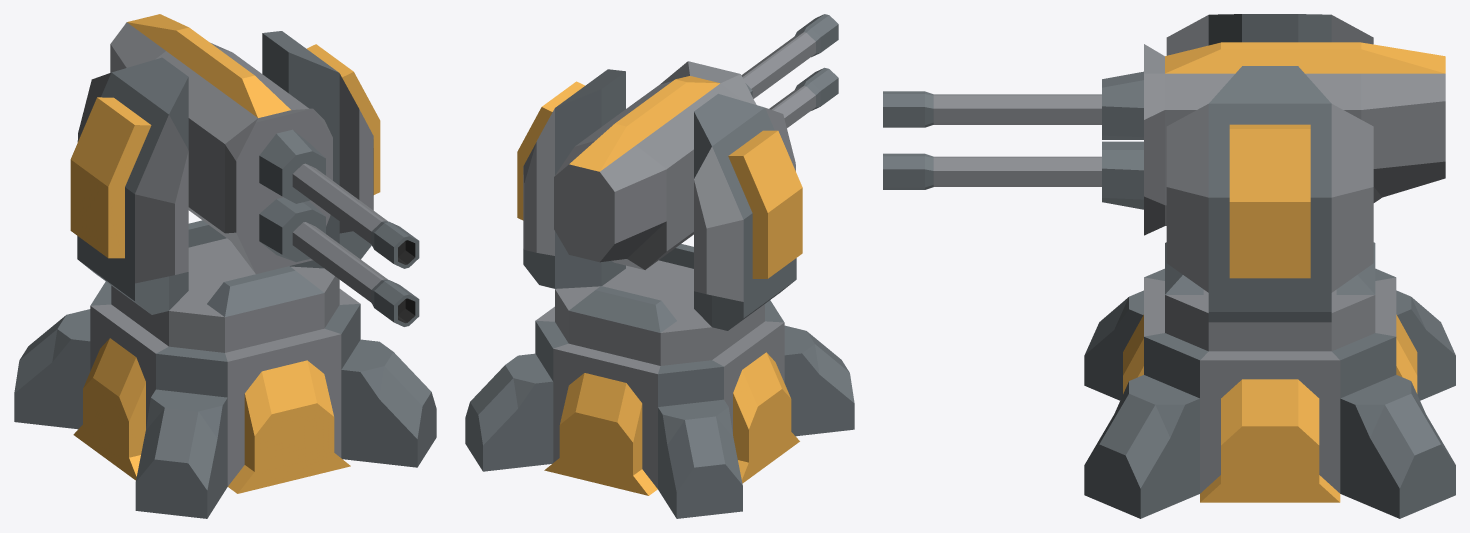
File: Medium Dual Cannon Turret.fbx
The picture shows the model from 3 angles, left to right: view 1: azimuth 30°, elevation 25°; view 2: azimuth 150°, elevation 25°; view 3: azimuth 270°, elevation 25°; orthographic projection. The views are drawn at different scales.
Visible parts, largest first — view 1: Base, Turret, TurretHead, CannonTop, CannonBot; view 2: Base, Turret, TurretHead, CannonTop, CannonBot; view 3: Base, Turret, TurretHead, CannonTop, CannonBot.
Boxes of the visible parts, bbox=[...] form: Base: bbox=[14, 281, 436, 518]; Turret: bbox=[70, 31, 380, 352]; TurretHead: bbox=[110, 14, 332, 273]; CannonTop: bbox=[292, 163, 419, 268]; CannonBot: bbox=[292, 222, 419, 326]; Base: bbox=[465, 300, 854, 518]; Turret: bbox=[517, 69, 802, 365]; TurretHead: bbox=[554, 61, 756, 269]; CannonTop: bbox=[741, 14, 838, 98]; CannonBot: bbox=[769, 67, 838, 127]; Base: bbox=[1084, 268, 1455, 518]; Turret: bbox=[1165, 14, 1375, 351]; TurretHead: bbox=[1102, 42, 1445, 235]; CannonTop: bbox=[883, 91, 1101, 127]; CannonBot: bbox=[883, 153, 1101, 189].
Bounding box in the file's own units: 88.28 × 105 × 136.
